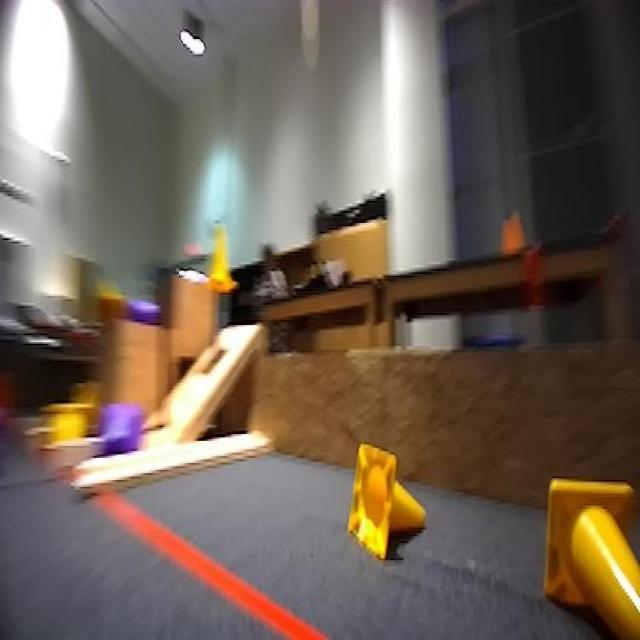frc_cone: (536, 483, 640, 640), (346, 446, 408, 565), (204, 215, 246, 302), (48, 400, 95, 453)
frc_cube: (99, 402, 139, 456), (125, 296, 159, 325)
